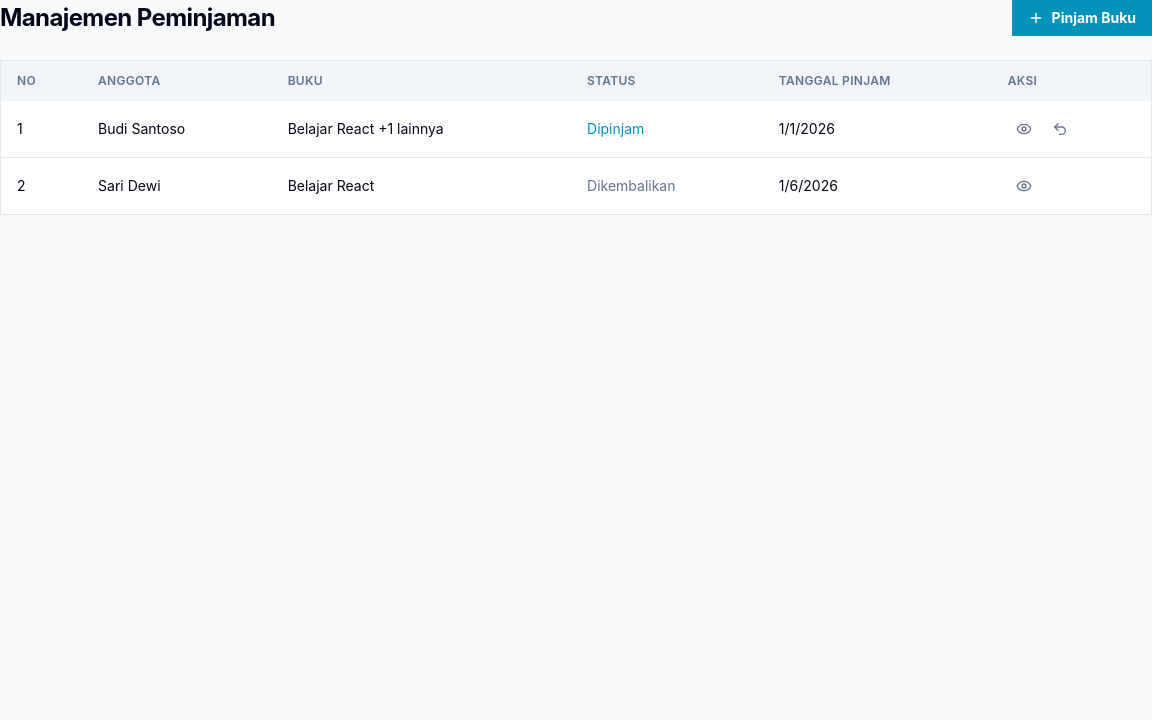
Test: LoansPage › reloads the list when returning fails with LOAN_ALREADY_RETURNED
Expected: the text "Belajar React +1 lainnya" is shown, [272, 101, 571, 158]
Click the button named "Kembalikan".
click(1060, 129)  # box [1044, 113, 1076, 145]
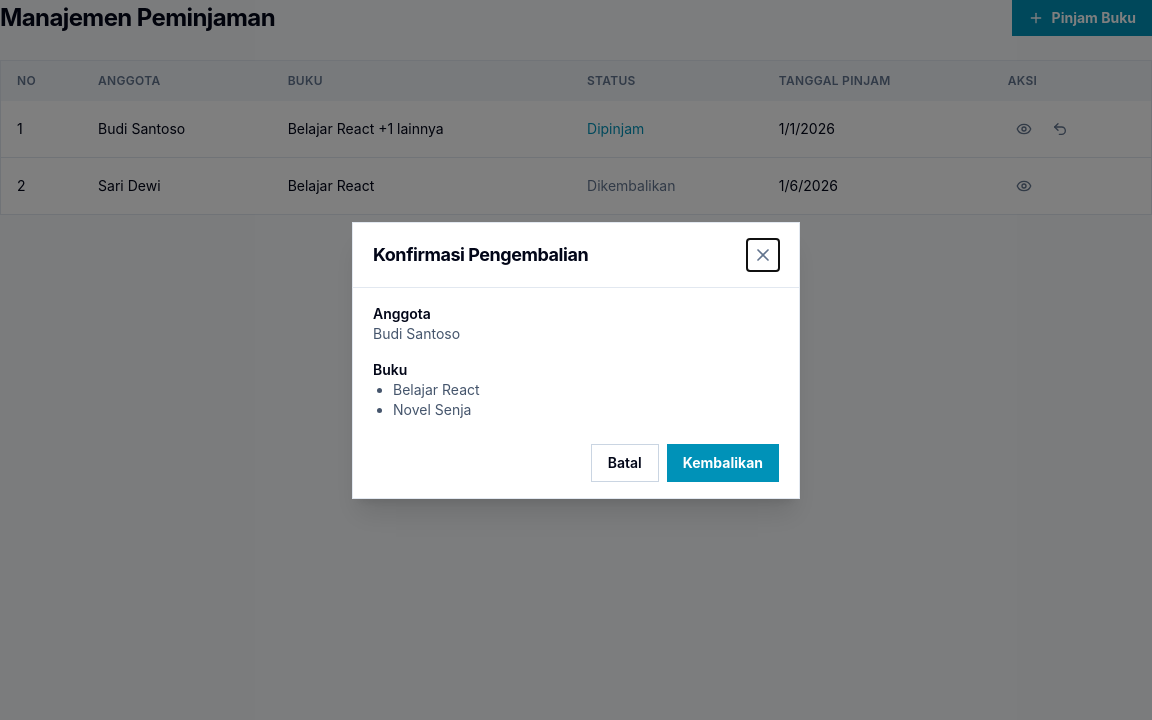
Click the button "Kembalikan".
click(723, 462)  # box [667, 444, 779, 482]
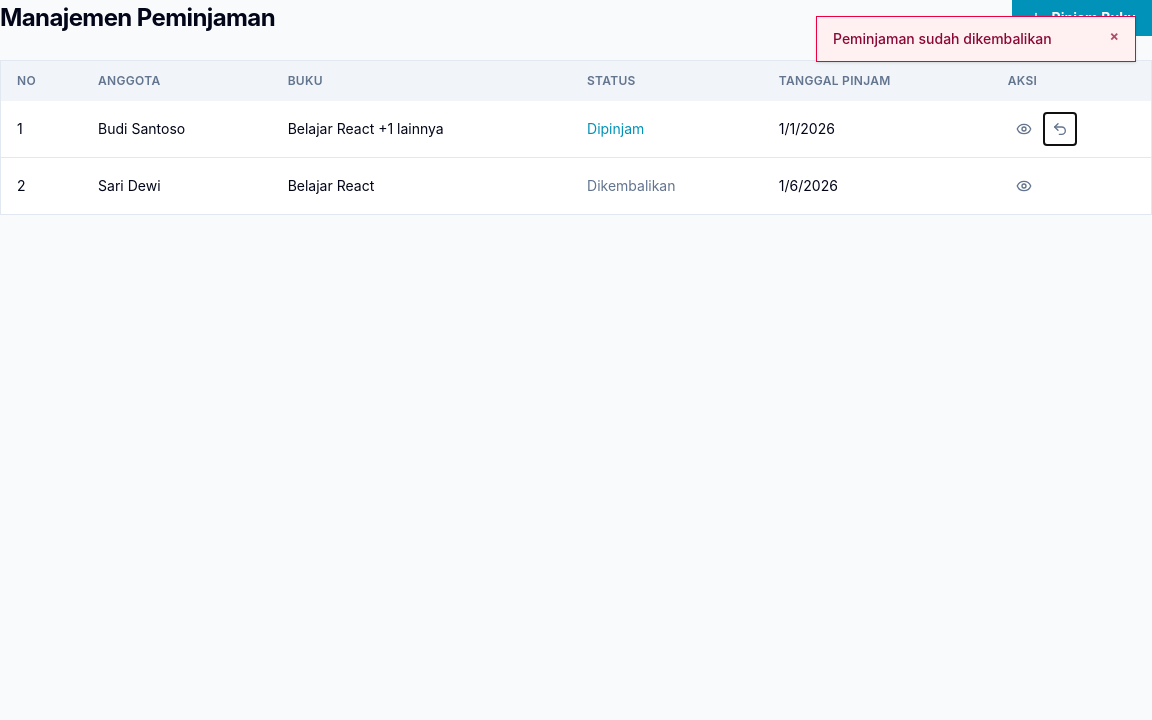
Now the text "Peminjaman sudah dikembalikan" is shown, box [833, 29, 1052, 49]
